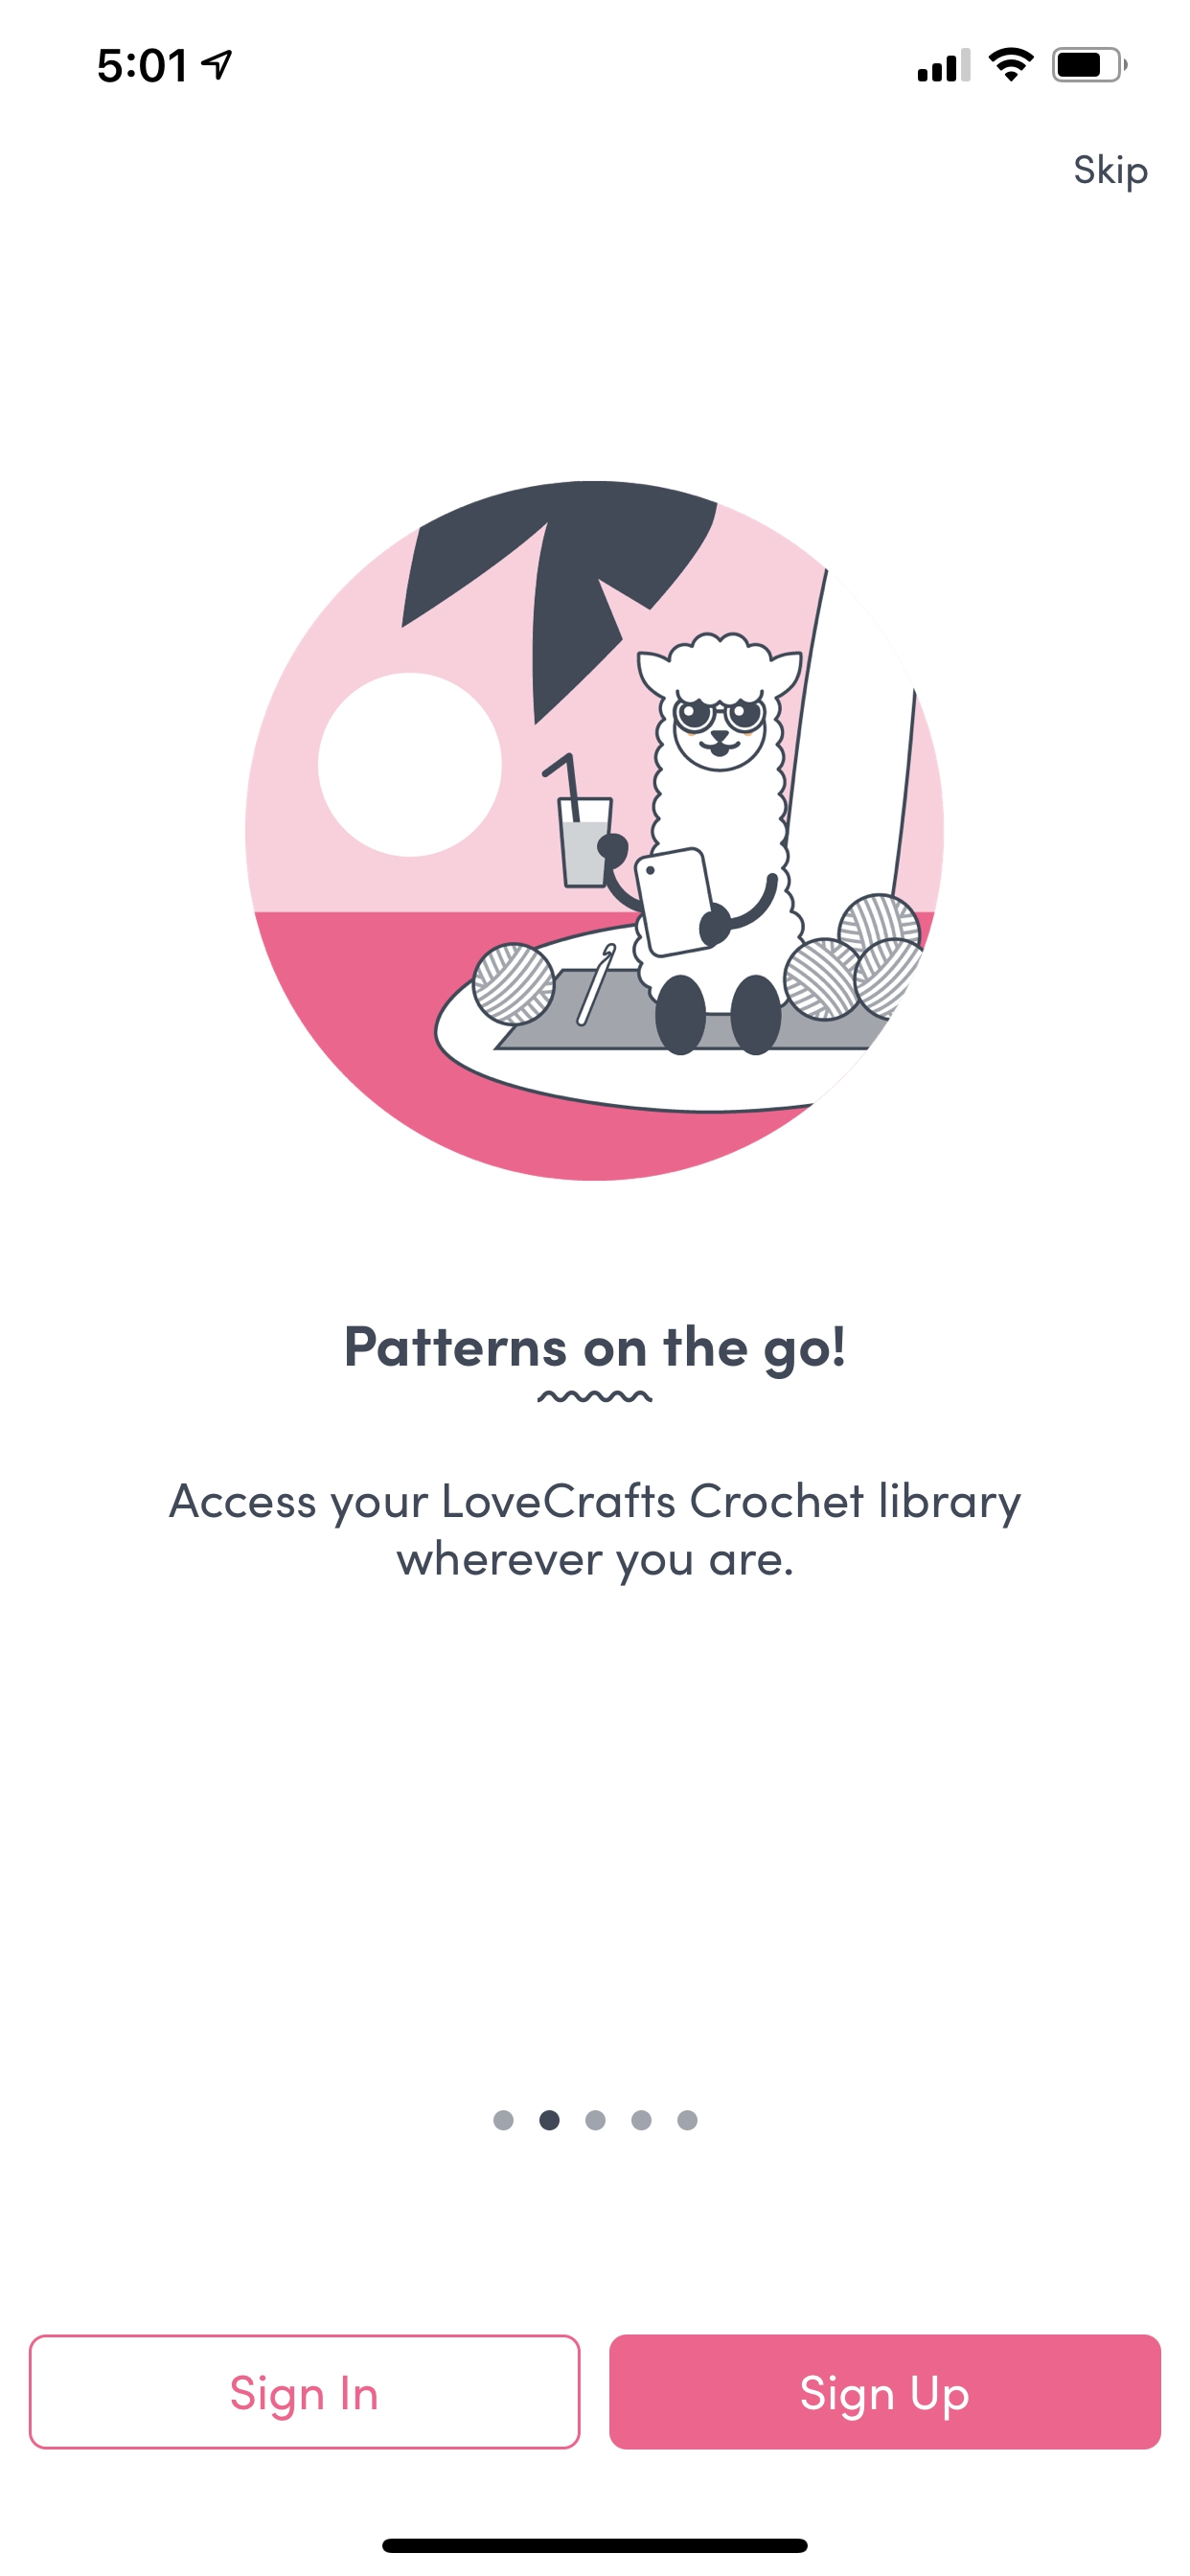Image: (245, 481, 945, 1181)
PageIndicator: (493, 2109, 697, 2131)
Text: (169, 1480, 1021, 1587), (347, 1324, 845, 1378), (1073, 153, 1147, 194)
TextButton: (610, 2333, 1162, 2449), (28, 2333, 580, 2449)
UpperTaskBar: (97, 48, 1128, 84)
